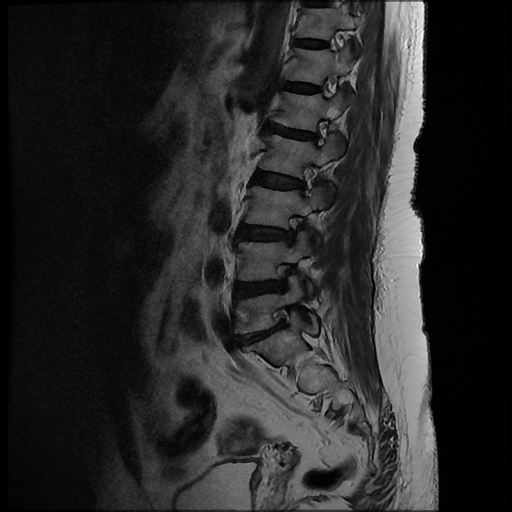LFS0: (290, 157, 323, 202), (303, 110, 336, 155)
LFS2: (264, 300, 298, 340)
LFS3: (265, 251, 302, 297), (276, 204, 308, 250)
